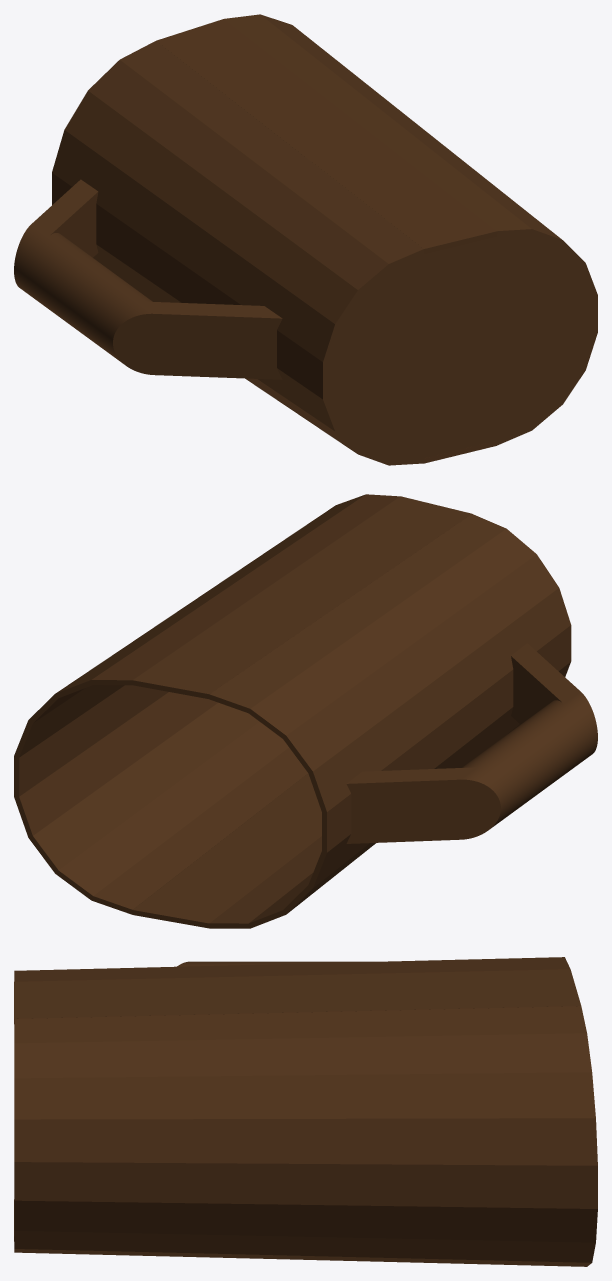
The model's file is EspressoCup.fbx.
The picture shows the model from 3 angles, top to bottom: view 1: azimuth 30°, elevation 25°; view 2: azimuth 150°, elevation 25°; view 3: azimuth 270°, elevation 25°; orthographic projection. The views are drawn at different scales.
Parts seen in each view (by area): view 1: Blank_Jug; view 2: Blank_Jug; view 3: Blank_Jug.
Boxes of the visible parts, x1=… form: Blank_Jug: x1=14, y1=14, x2=597, y2=465; Blank_Jug: x1=14, y1=494, x2=597, y2=928; Blank_Jug: x1=14, y1=957, x2=597, y2=1266.
Bounding box in the file's own units: 1663 × 937 × 1997.
